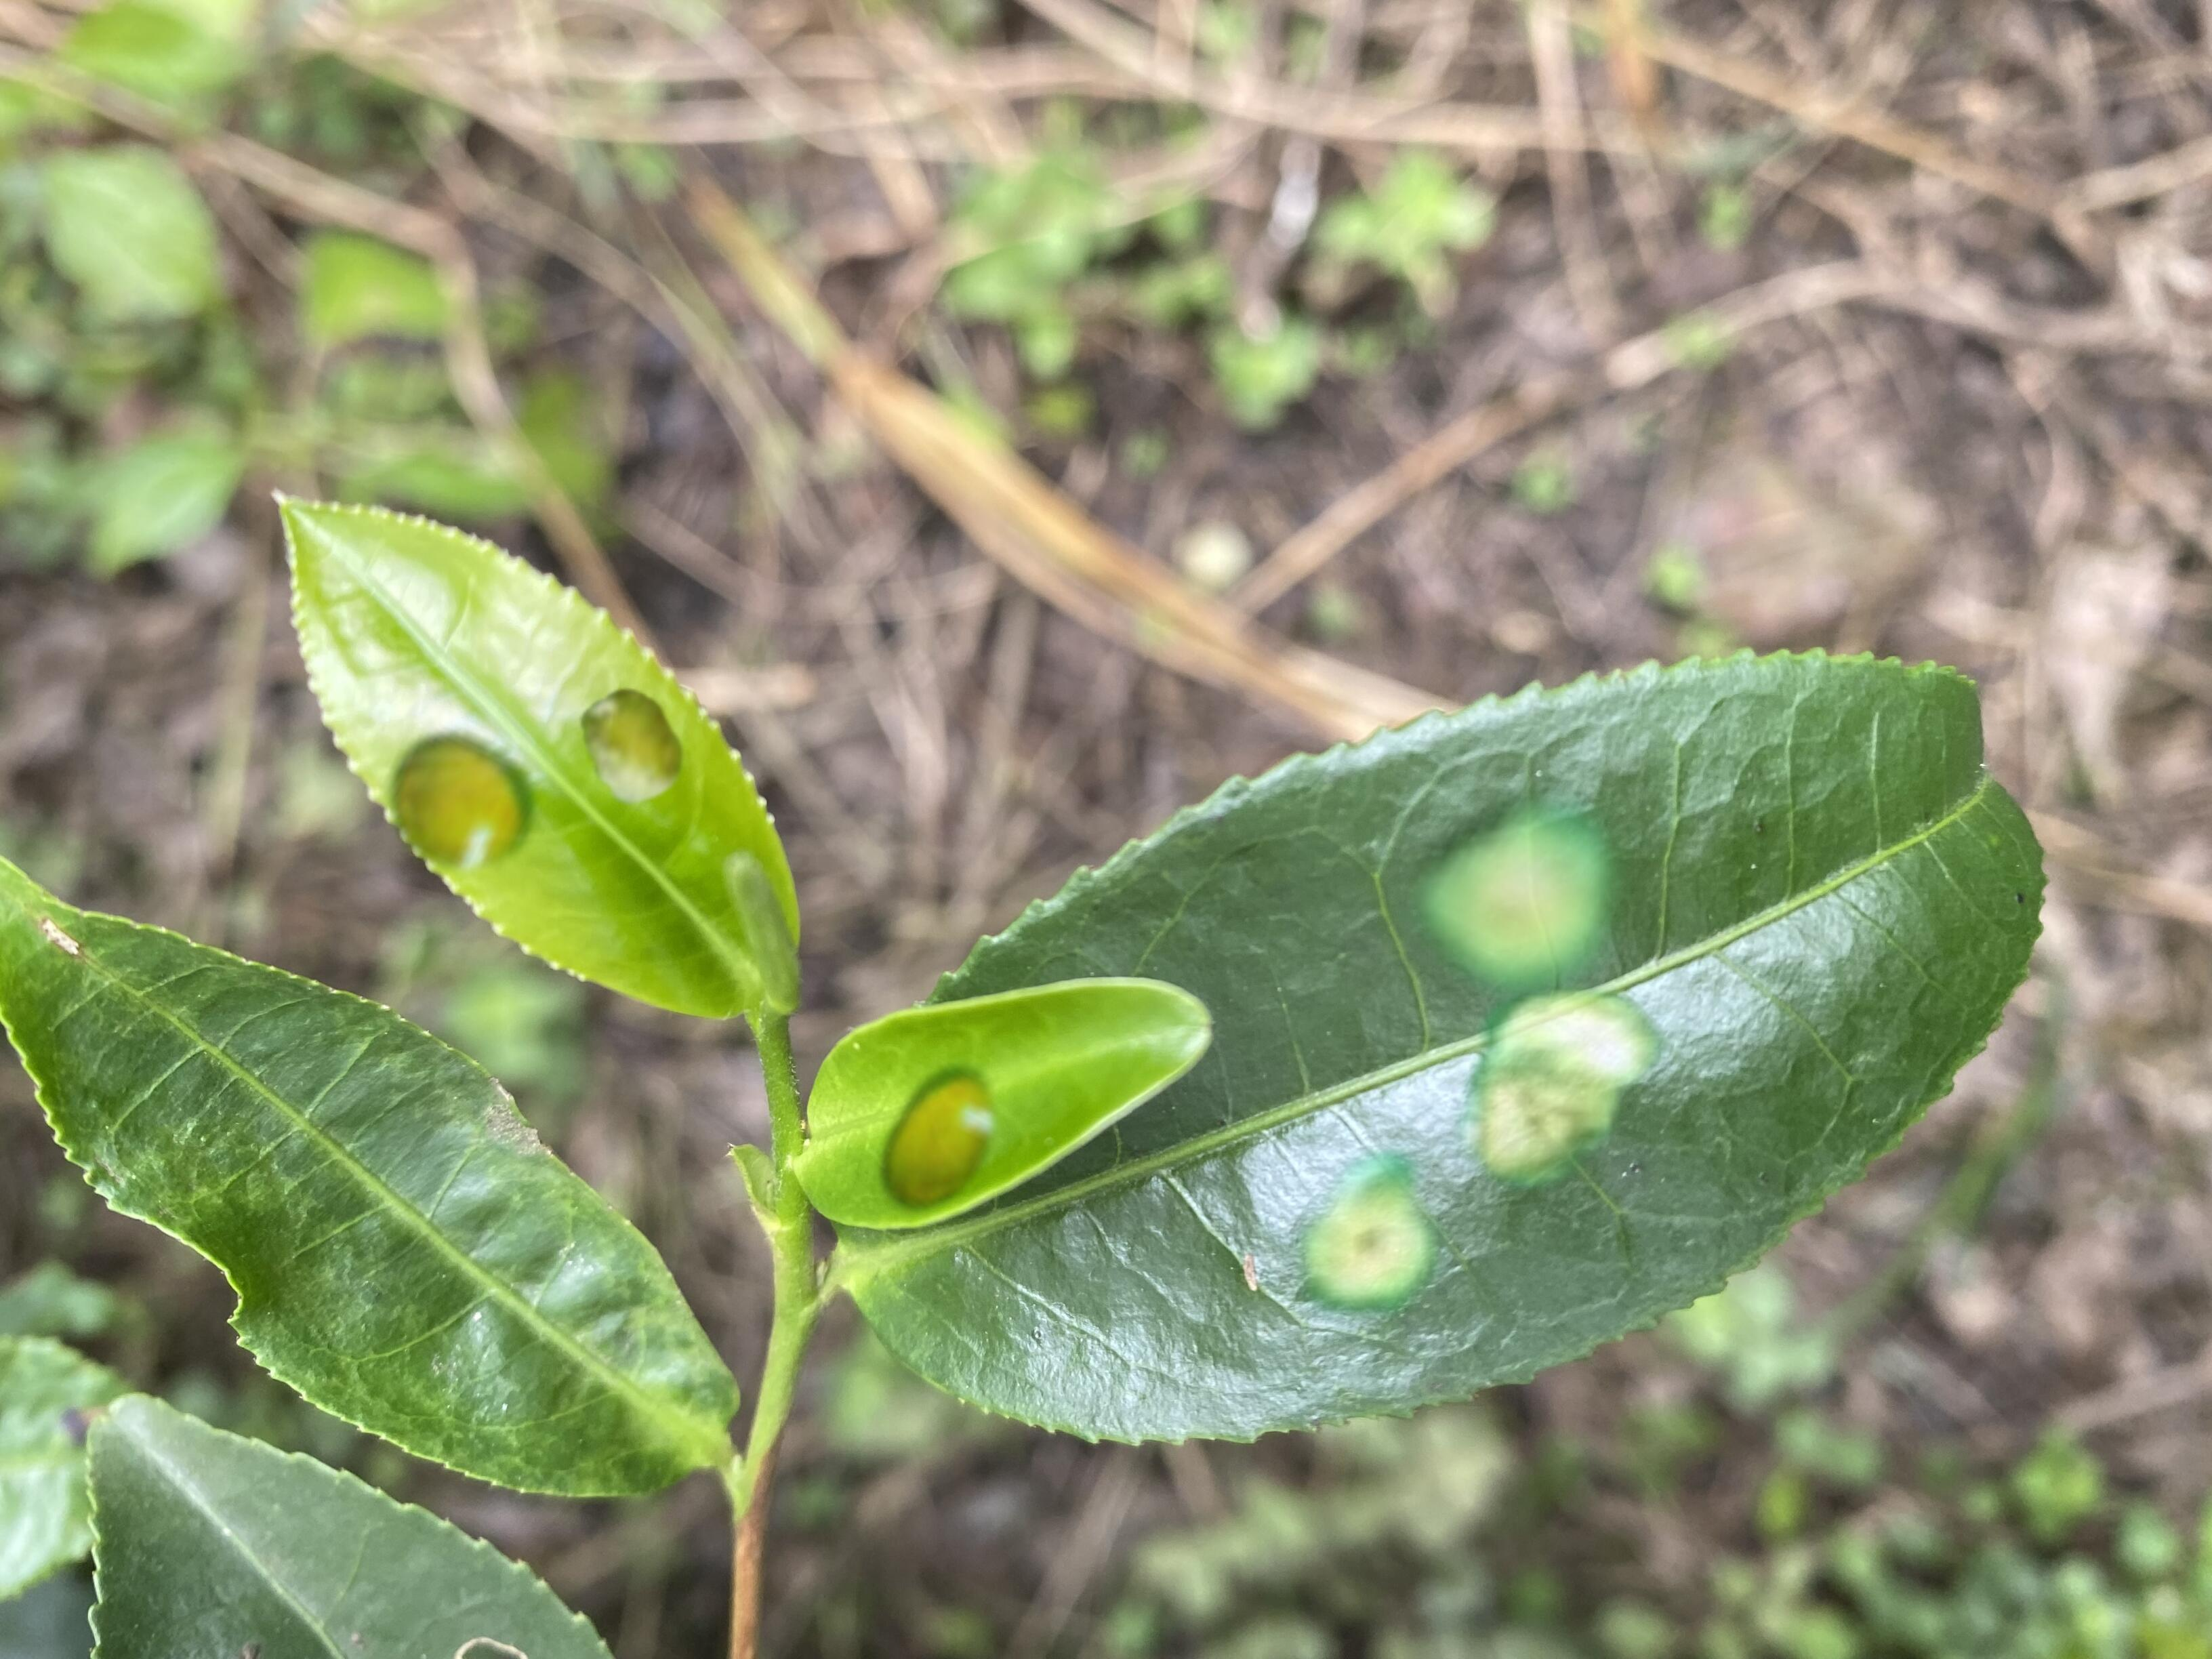chabing_high: (852, 650, 2050, 1450), (272, 488, 801, 1018)
chabing_low: (798, 976, 1212, 1227)
tanju_low: (3, 856, 742, 1500)
